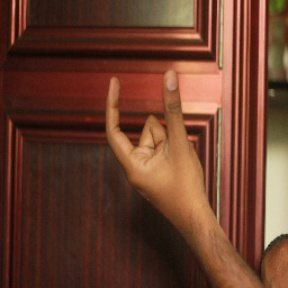U: (104, 64, 201, 201)
